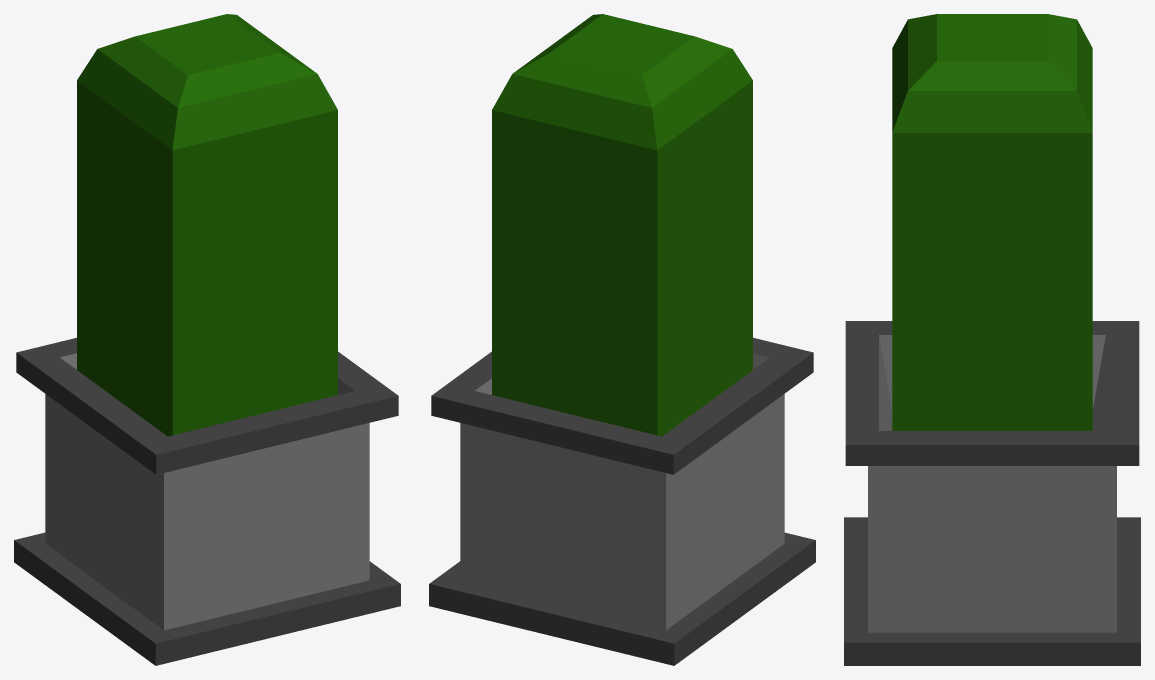
The model's file is bush_01_Basic.fbx.
3 renders of one model, left to right at view 1: azimuth 30°, elevation 25°; view 2: azimuth 150°, elevation 25°; view 3: azimuth 270°, elevation 25°, orthographic. The views are drawn at different scales.
Parts seen in each view (by area): view 1: bush_01_Basic; view 2: bush_01_Basic; view 3: bush_01_Basic.
Part boxes in pixels (box(x1,y1,x2,y2)): bush_01_Basic: box(14, 14, 400, 665); bush_01_Basic: box(429, 14, 815, 665); bush_01_Basic: box(844, 14, 1140, 665).
Bounding box in the file's own units: 100 × 210 × 100.
Materials: 1 (1 with a texture image).
